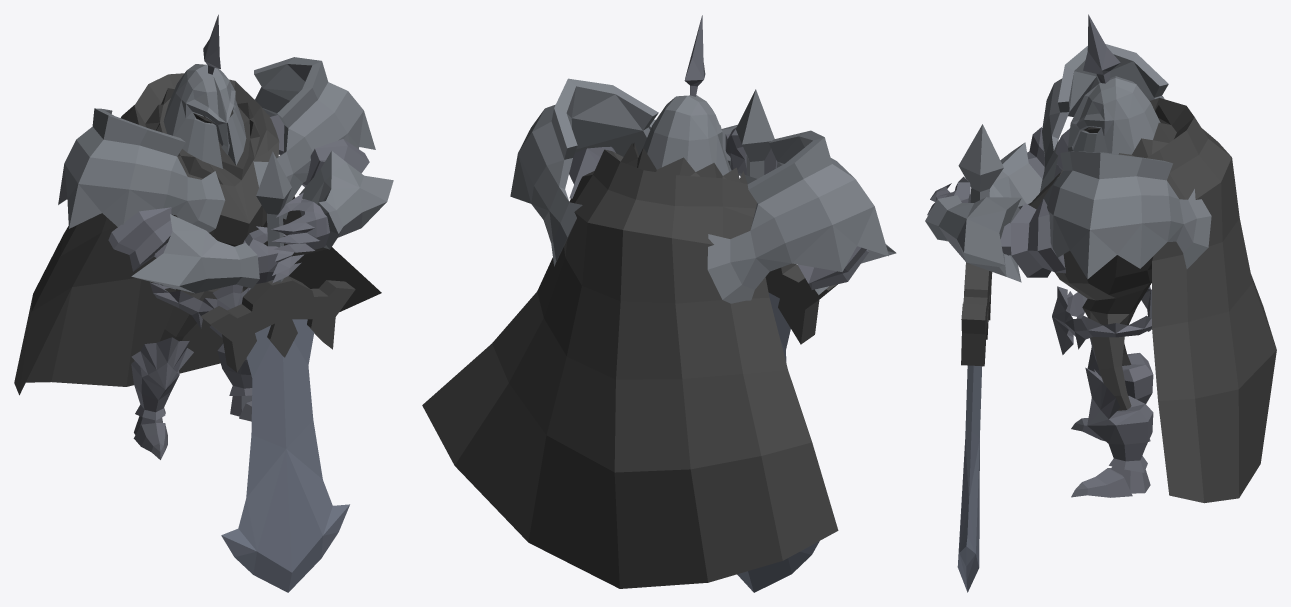
The model's file is DeathKnight01_acc.FBX.
3 views of the same model, side by side, from view 1: azimuth 30°, elevation 25°; view 2: azimuth 150°, elevation 25°; view 3: azimuth 270°, elevation 25° (orthographic). The views are drawn at different scales.
Visible parts, largest first — view 1: DeathKnight01_acc; view 2: DeathKnight01_acc; view 3: DeathKnight01_acc.
Boxes of the visible parts, x1=… form: DeathKnight01_acc: x1=14, y1=14, x2=393, y2=592; DeathKnight01_acc: x1=422, y1=15, x2=896, y2=592; DeathKnight01_acc: x1=925, y1=14, x2=1276, y2=592.
Size of the model in its own units: 1.55 by 2.23 by 1.24.
